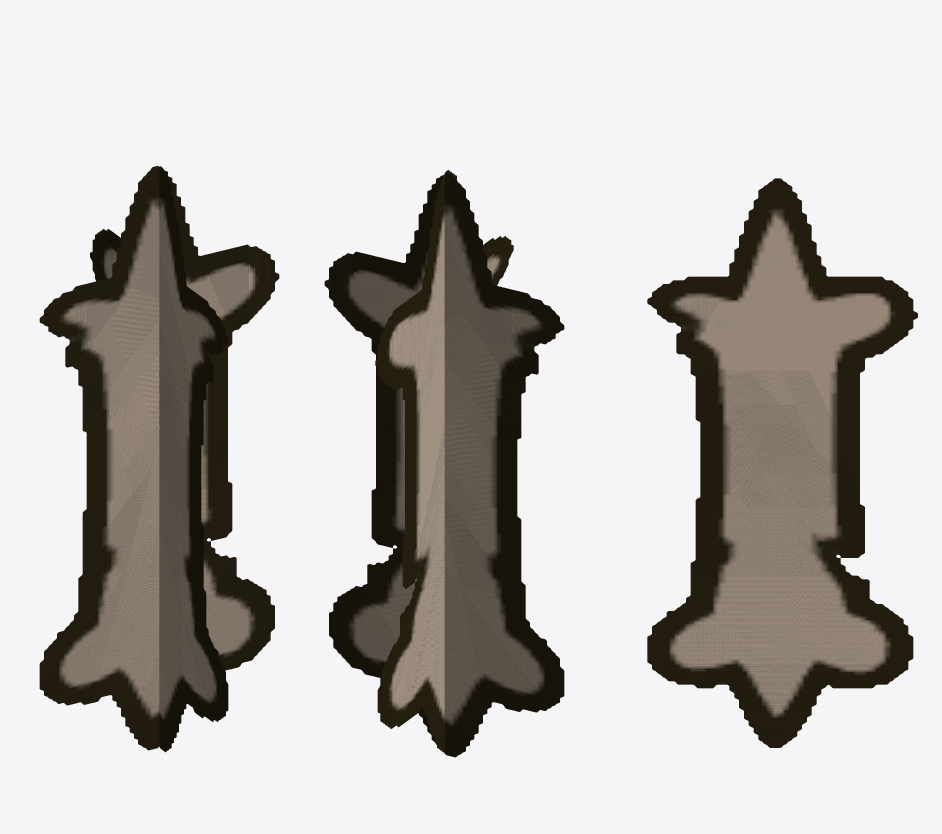
The model's file is c_hone.dae.
3 renders of one model, left to right at view 1: azimuth 30°, elevation 25°; view 2: azimuth 150°, elevation 25°; view 3: azimuth 270°, elevation 25°, orthographic. The views are drawn at different scales.
Visible parts, largest first — view 1: pPlane84, pPlane83, pPlane86, pPlane85; view 2: pPlane84, pPlane83, pPlane86, pPlane85; view 3: pPlane86, pPlane85.
Part boxes in pixels (left/top/right/bottom): pPlane84: left=39, top=166, right=278, bottom=750; pPlane83: left=39, top=166, right=279, bottom=749; pPlane86: left=90, top=166, right=228, bottom=752; pPlane85: left=90, top=166, right=228, bottom=750; pPlane84: left=324, top=173, right=564, bottom=757; pPlane83: left=325, top=174, right=564, bottom=755; pPlane86: left=375, top=170, right=513, bottom=752; pPlane85: left=375, top=172, right=513, bottom=751; pPlane86: left=647, top=178, right=917, bottom=747; pPlane85: left=647, top=178, right=913, bottom=746.
Size of the model in its own units: 11.85 by 28.53 by 11.85.
Materials: 2 (2 with a texture image).
